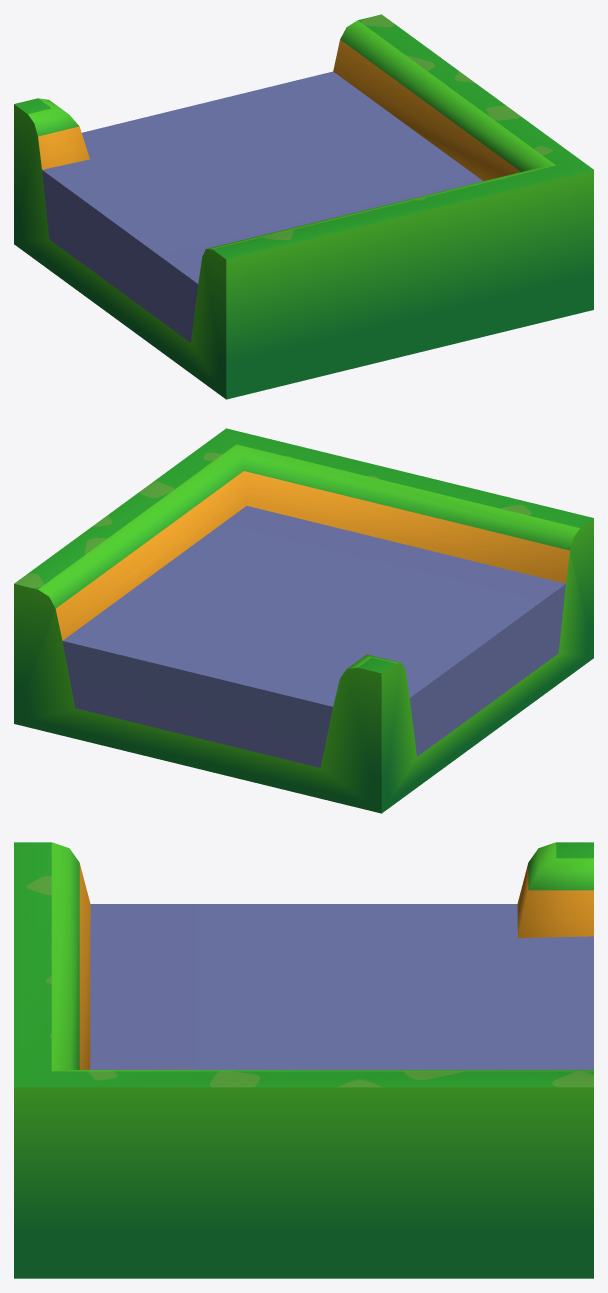
File: RiverTile_2_2.glb
3 renders of one model, top to bottom at view 1: azimuth 30°, elevation 25°; view 2: azimuth 150°, elevation 25°; view 3: azimuth 270°, elevation 25°, orthographic. The views are drawn at different scales.
Parts seen in each view (by area): view 1: RiverTile_2_2; view 2: RiverTile_2_2; view 3: RiverTile_2_2.
Boxes of the visible parts, x1,y1,x2,y2 form: RiverTile_2_2: (14,14,593,399); RiverTile_2_2: (14,428,593,813); RiverTile_2_2: (14,842,593,1278).
Bounding box in the file's own units: 4 × 1.46 × 4.
Materials: 4 (4 with a texture image).
